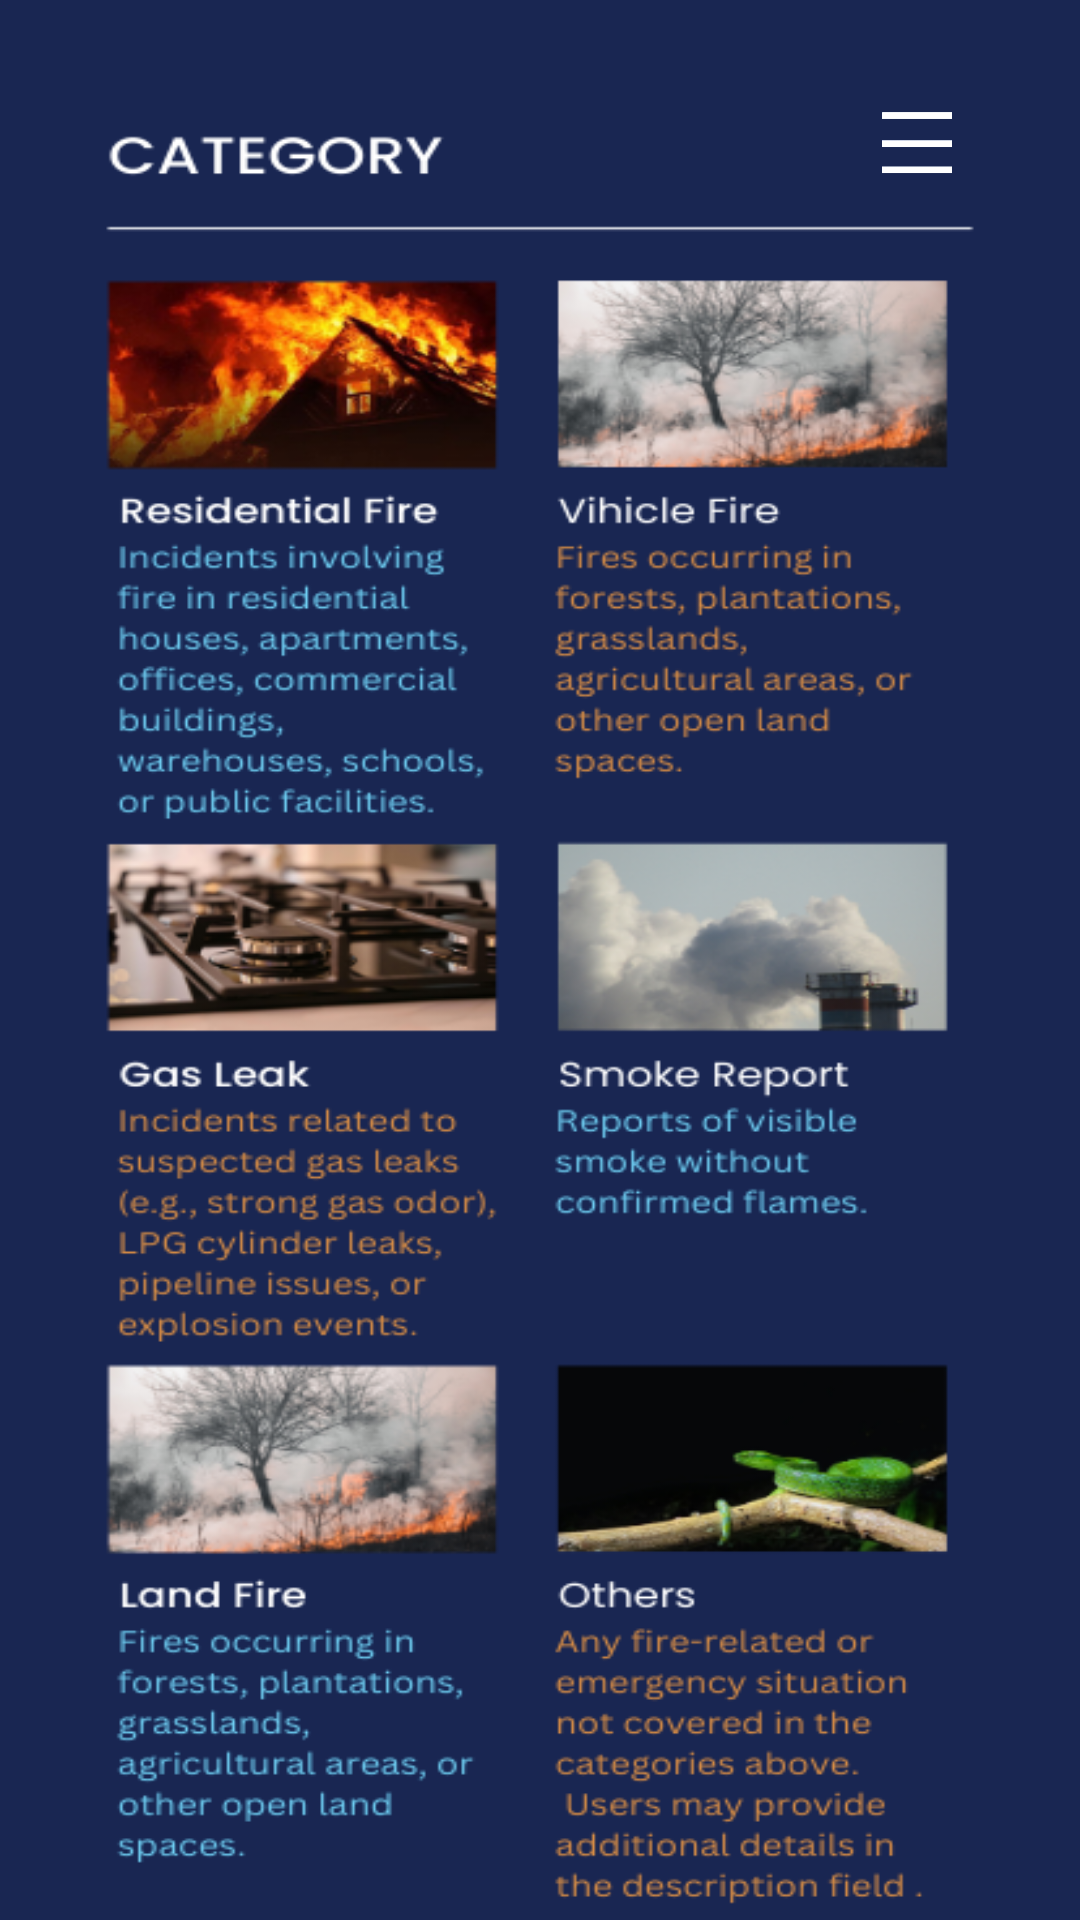

Icons on this 1080×1920 Android screen, each with its box as (x1,y1,x2,y2):
navwhite: (882,112,952,173)
